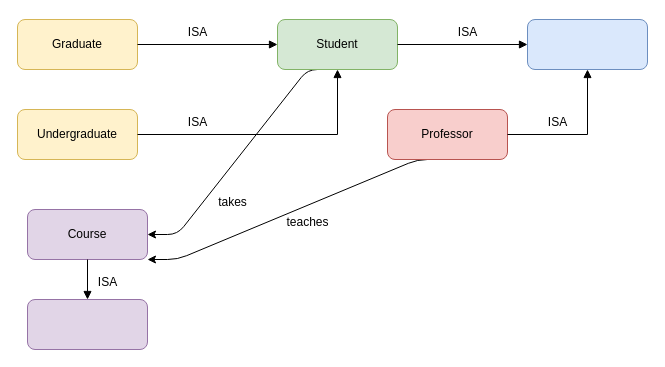
The diagram is 665 pixels wide and 367 high, and some of its shapes have lost their labels. Each missing label, with the centre of its shape:
"Entity" belongs at point (87, 324).
"Person" belongs at point (587, 44).
